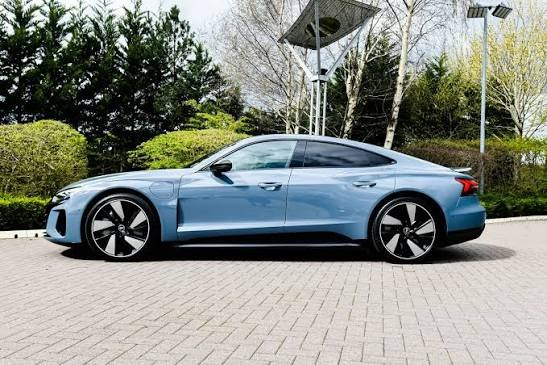car: (42, 136, 494, 262)
